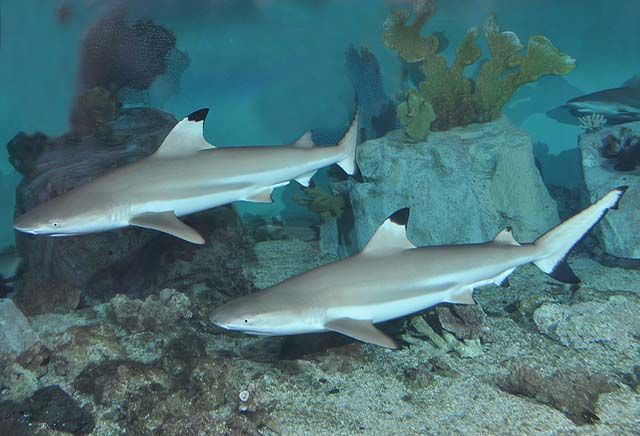fish: (207, 185, 629, 350), (11, 108, 361, 245)
